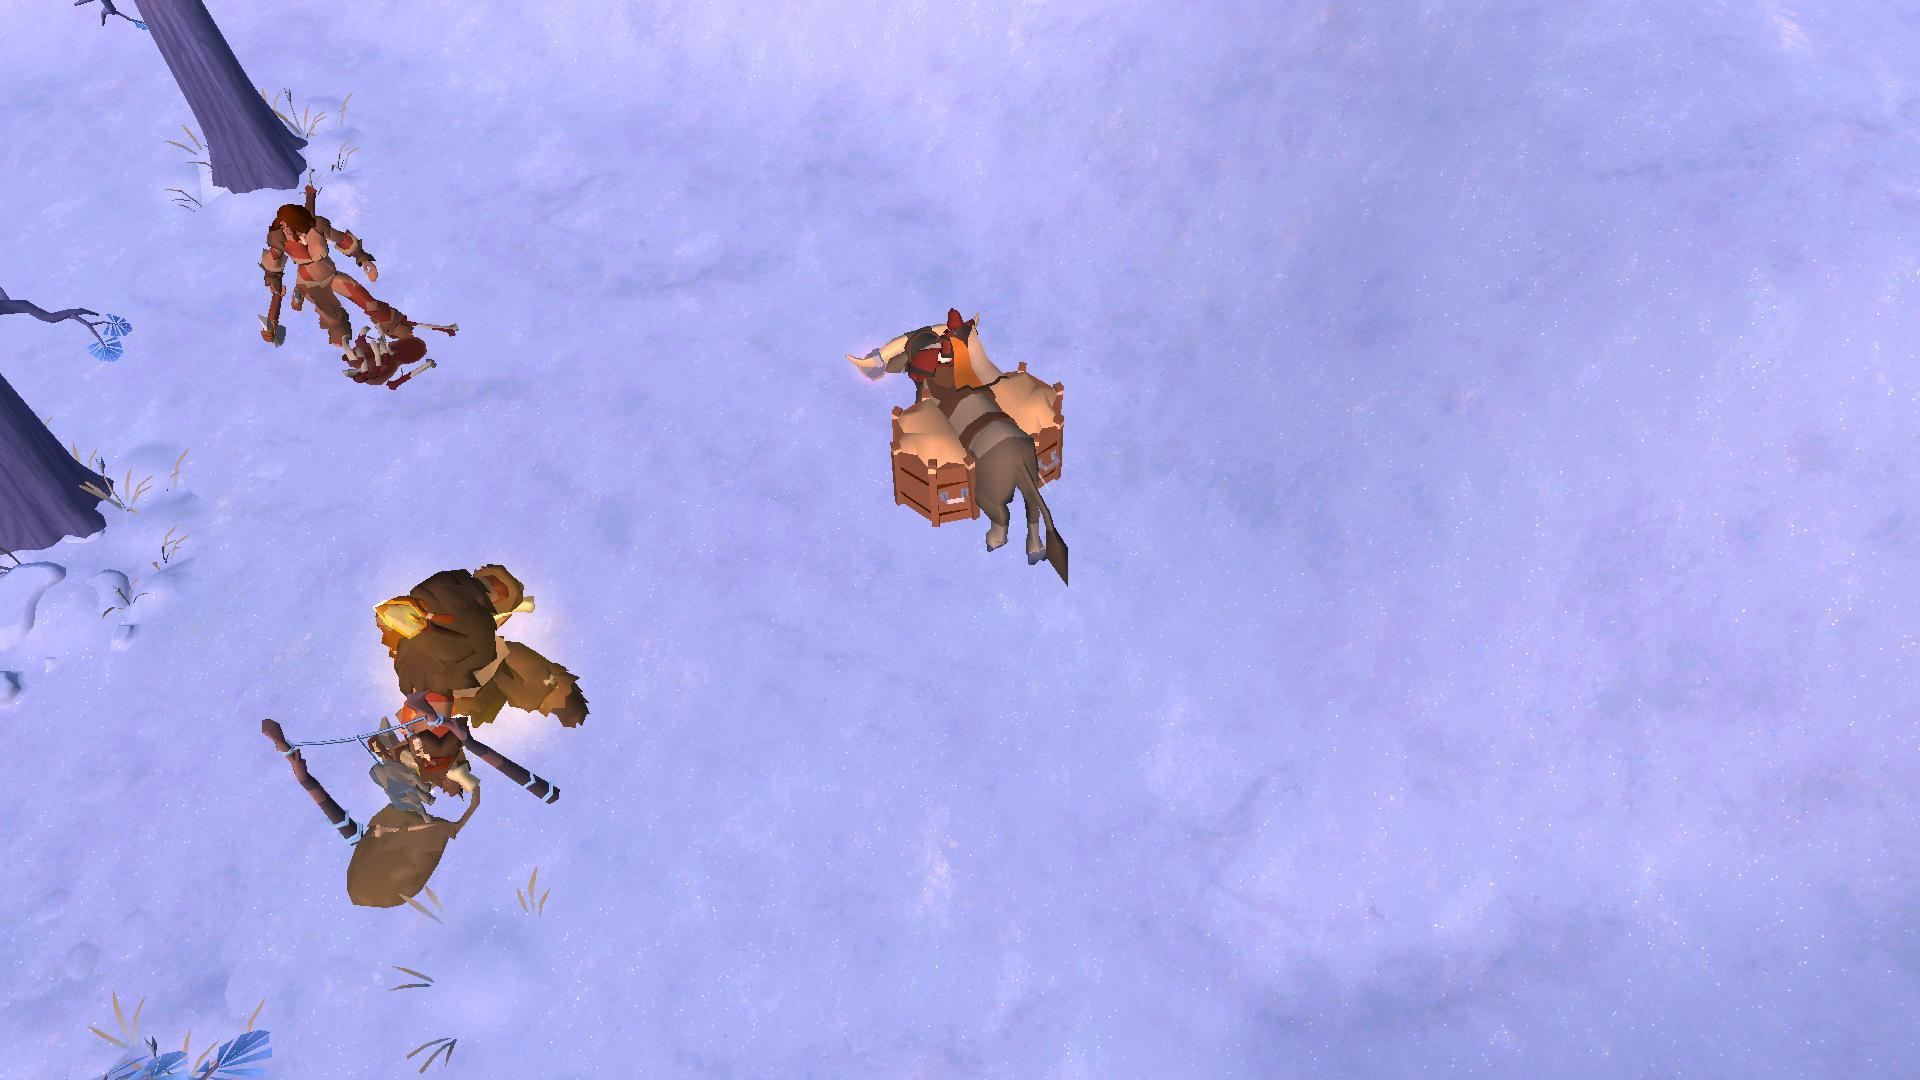enemy_factionKeeper: (371, 549, 585, 766), (253, 190, 389, 356)
